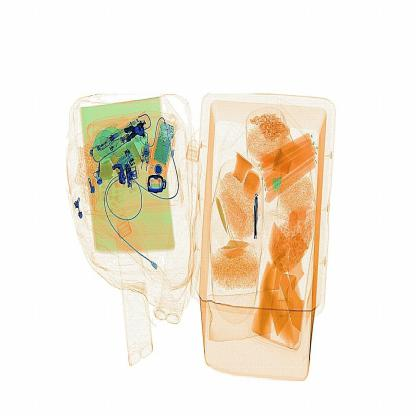knife: (245, 187, 272, 242)
